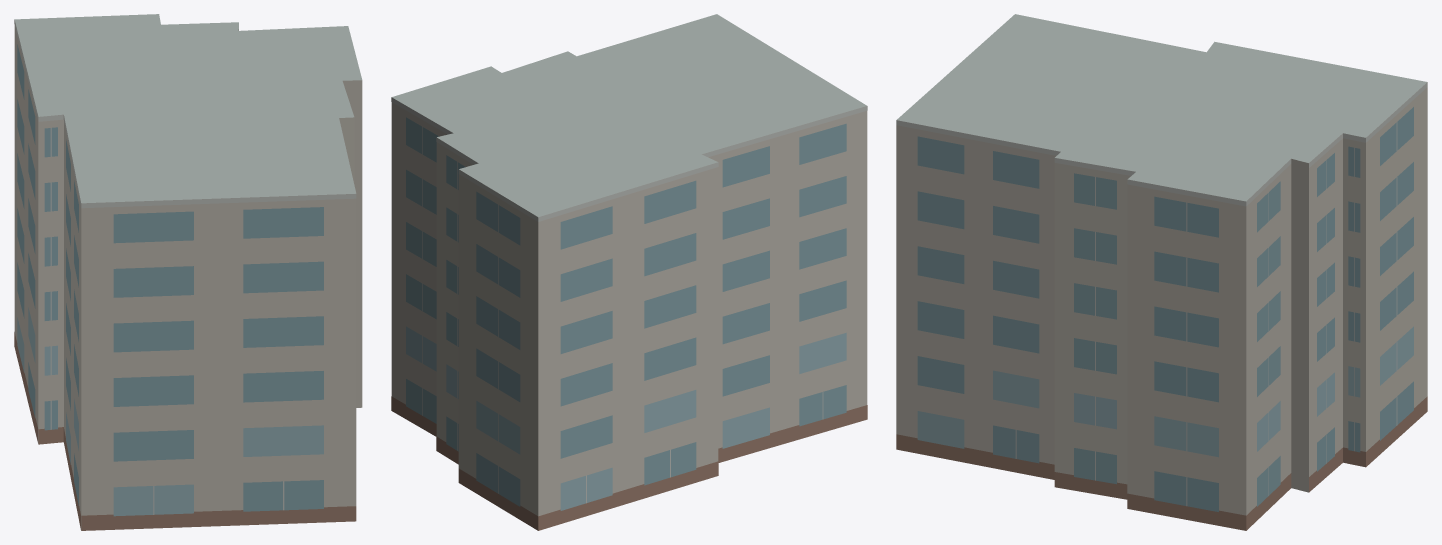
The model's file is survey-upis-32643768.glb.
The picture shows the model from 3 angles, left to right: view 1: azimuth 30°, elevation 25°; view 2: azimuth 150°, elevation 25°; view 3: azimuth 270°, elevation 25°; orthographic projection. The views are drawn at different scales.
Parts seen in each view (by area): view 1: survey-upis-32643768.tmp; view 2: survey-upis-32643768.tmp; view 3: survey-upis-32643768.tmp.
Part boxes in pixels (bbox=[...]): survey-upis-32643768.tmp: bbox=[14, 14, 362, 530]; survey-upis-32643768.tmp: bbox=[391, 14, 867, 530]; survey-upis-32643768.tmp: bbox=[896, 14, 1427, 530].
Size of the model in its own units: 19.66 by 16.1 by 23.54.
